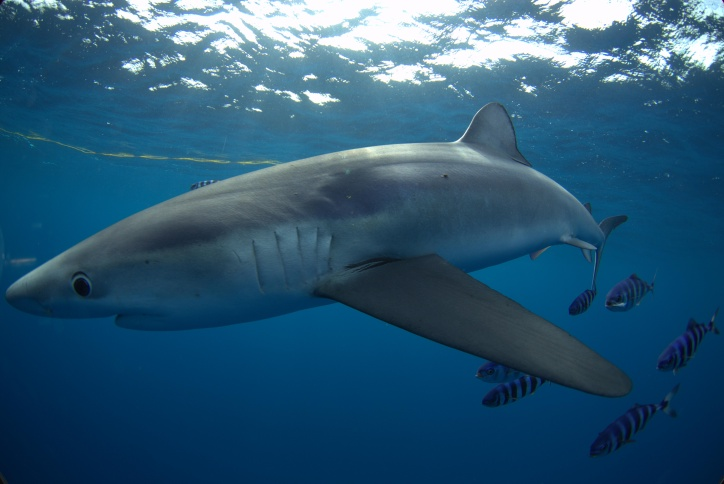Azul: (1, 94, 673, 447)
